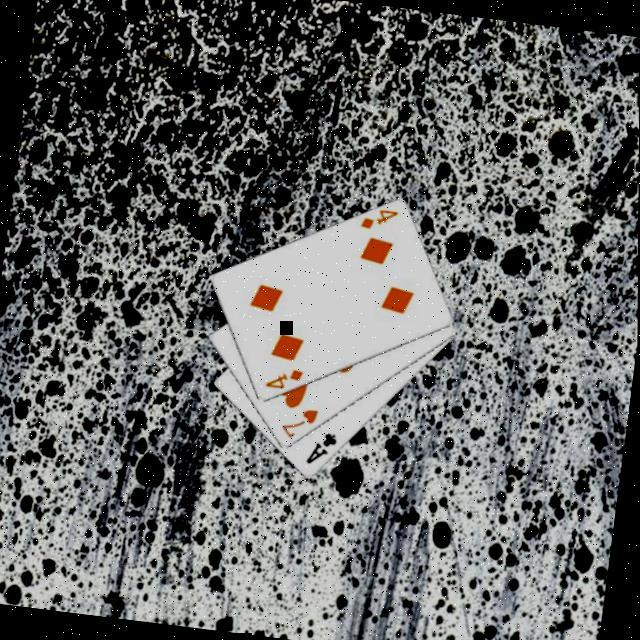4D: (261, 361, 306, 394), (355, 202, 400, 235)
7H: (276, 402, 321, 444)
AC: (302, 426, 340, 469)
